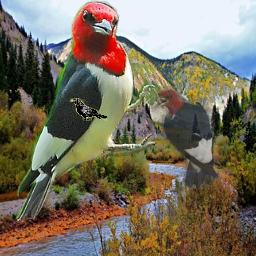Crow: (70, 98, 108, 121)
Woodpecker: (10, 0, 155, 221), (150, 85, 224, 189)
